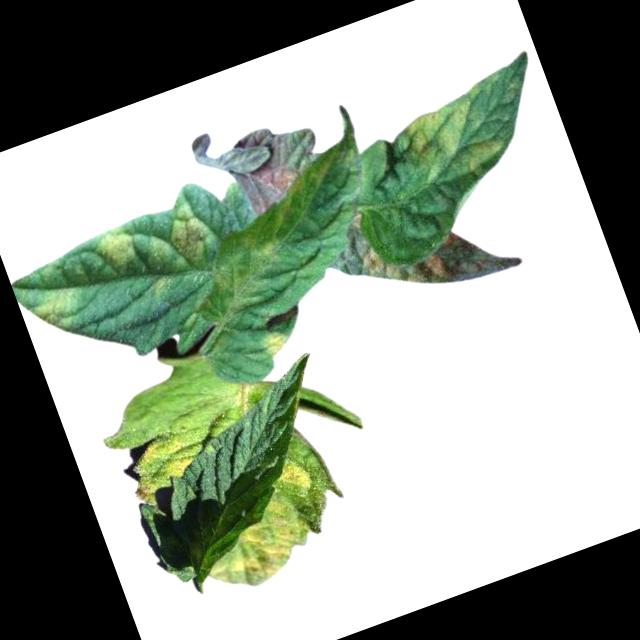Leaf_Mold: (319, 172, 527, 327), (181, 453, 340, 601), (391, 81, 513, 194), (217, 110, 336, 223), (116, 430, 200, 508), (151, 198, 219, 279), (86, 218, 145, 278), (24, 285, 81, 338), (256, 324, 291, 363)
